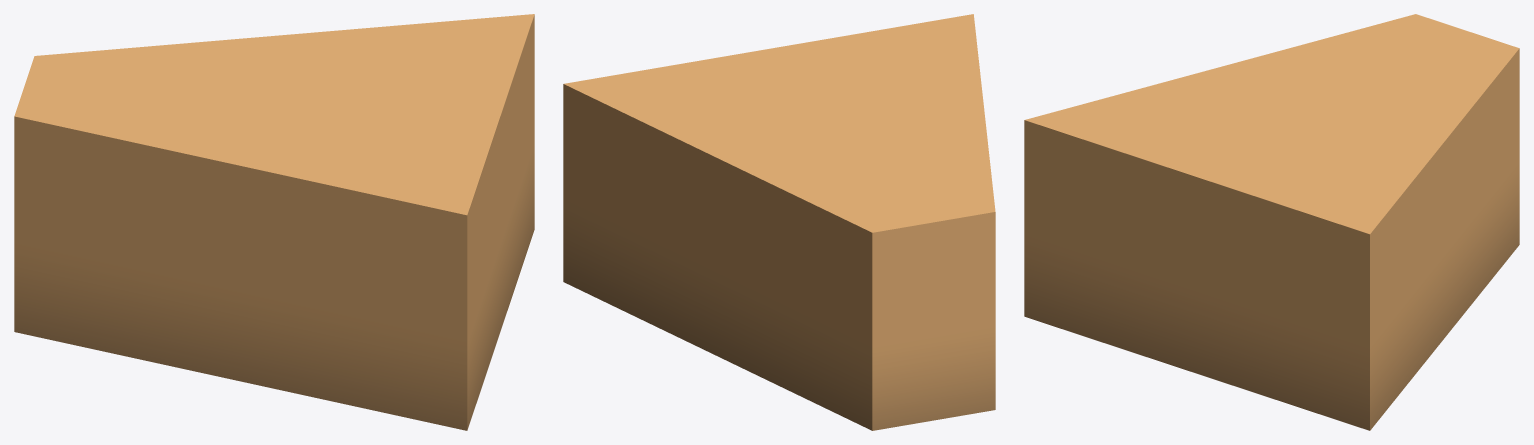
Rendered from PlatTri01.004.glb.
3 views of the same model, side by side, from view 1: azimuth 30°, elevation 25°; view 2: azimuth 150°, elevation 25°; view 3: azimuth 270°, elevation 25° (orthographic). The views are drawn at different scales.
Visible parts, largest first — view 1: PlatTri01.004; view 2: PlatTri01.004; view 3: PlatTri01.004.
Part boxes in pixels (x1=…): PlatTri01.004: x1=14, y1=14, x2=534, y2=430; PlatTri01.004: x1=563, y1=14, x2=995, y2=430; PlatTri01.004: x1=1024, y1=14, x2=1519, y2=430.
Size of what is drawn, in the model's own units: 2.77 by 1.15 by 2.63.
Materials: 1 (1 with a texture image).
